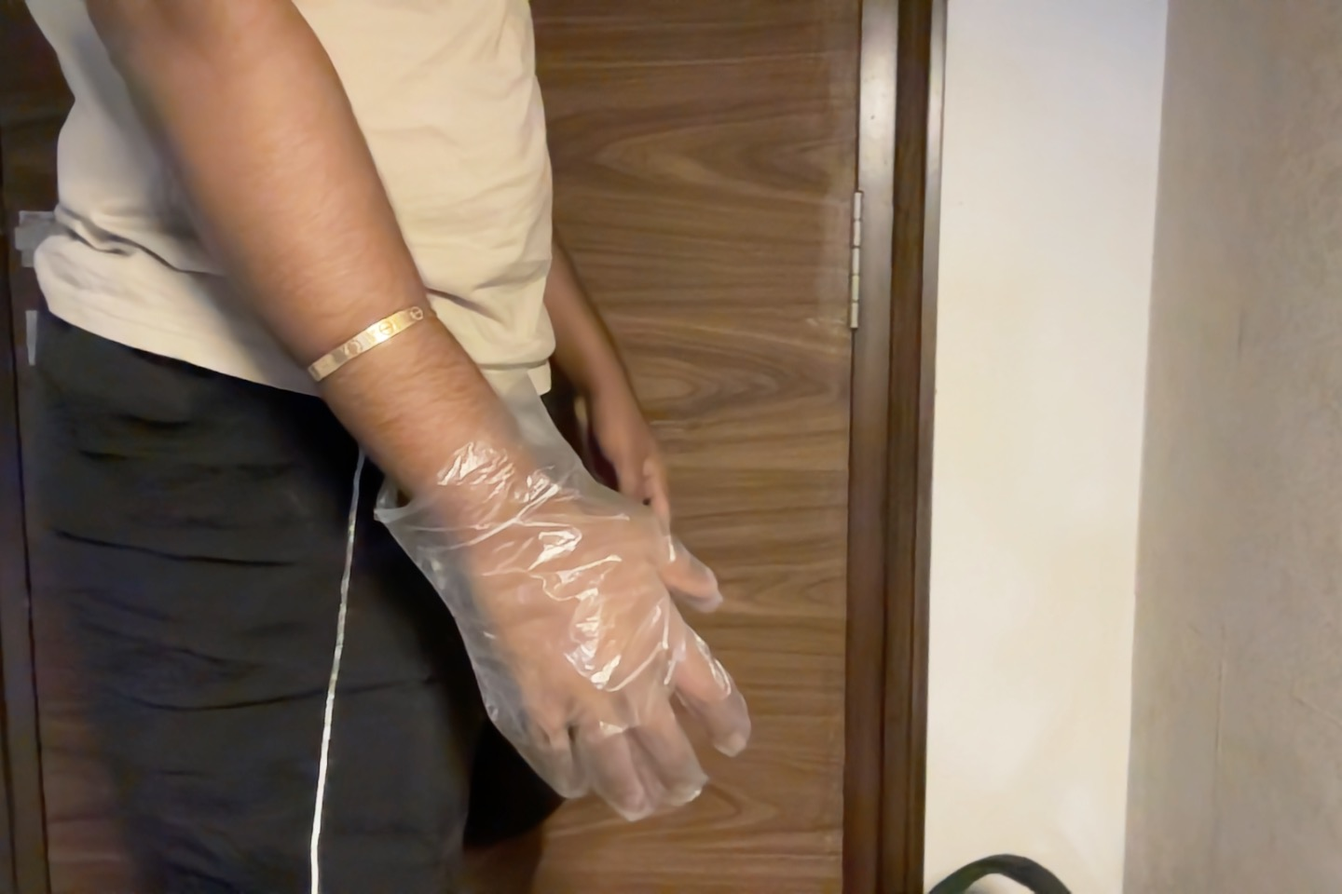gloves: (318, 390, 784, 830)
